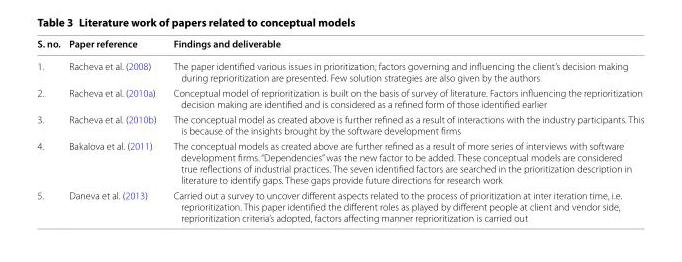table: (36, 36, 643, 223)
table column: (164, 36, 643, 223), (63, 36, 164, 223), (36, 36, 63, 223)
table column header: (36, 36, 643, 54)
table row: (36, 138, 643, 187), (36, 187, 643, 223), (36, 54, 643, 84), (36, 84, 643, 111), (36, 111, 643, 138), (36, 36, 643, 54)
